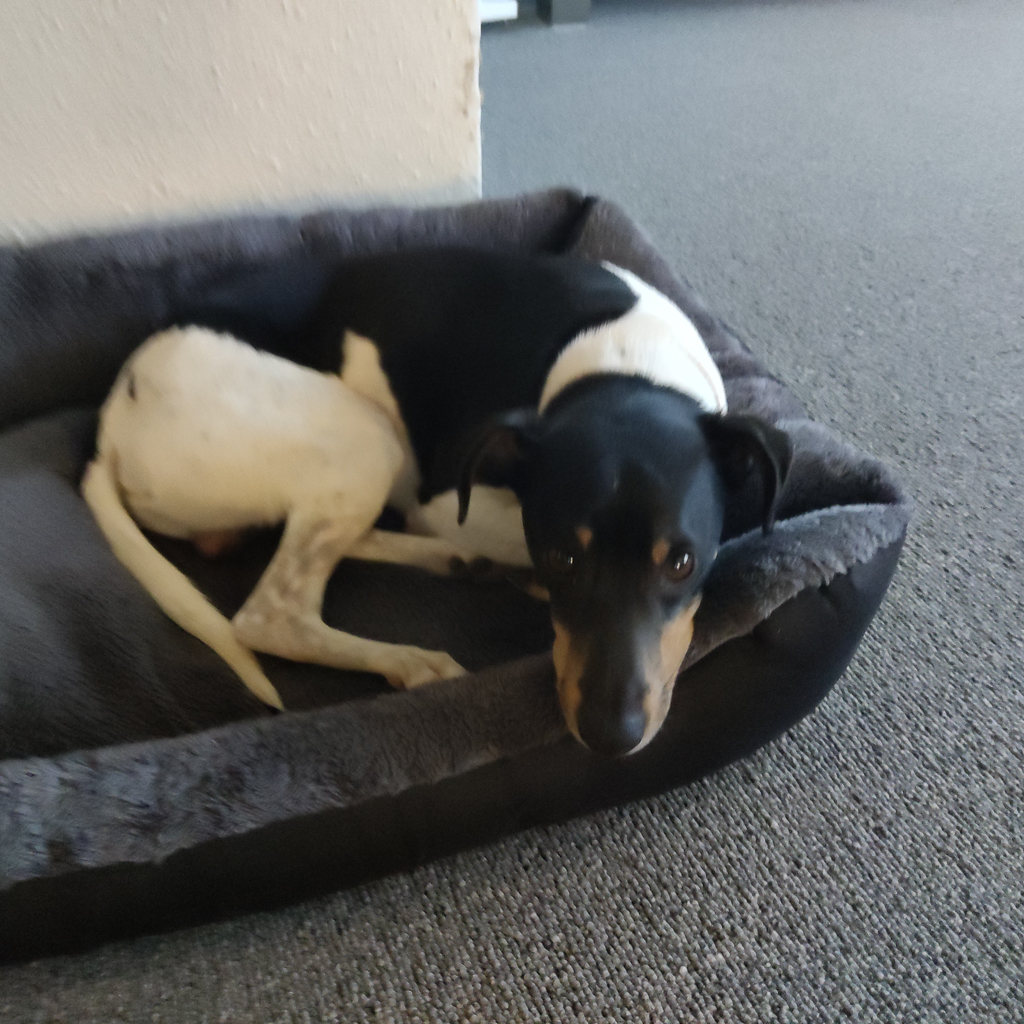Dog: (61, 205, 835, 798)
